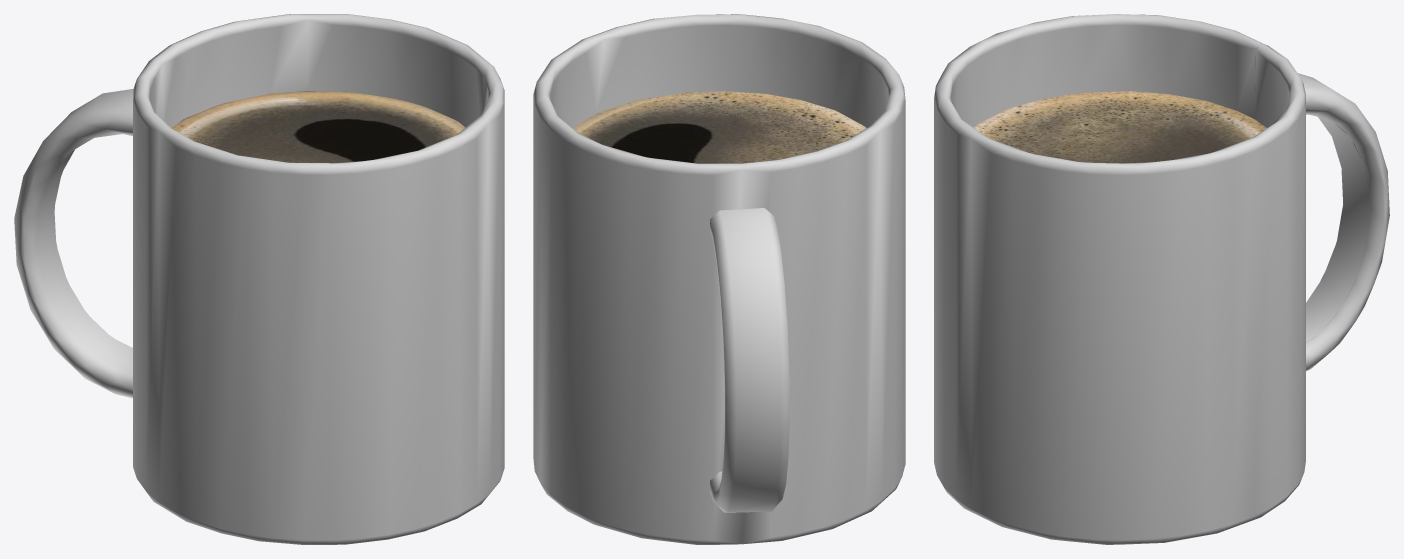
The model's file is coffee-mug.glb.
3 views of the same model, side by side, from view 1: azimuth 30°, elevation 25°; view 2: azimuth 150°, elevation 25°; view 3: azimuth 270°, elevation 25° (orthographic).
Parts seen in each view (by area): view 1: Mug1_Coffee_0; view 2: Mug1_Coffee_0; view 3: Mug1_Coffee_0.
Part boxes in pixels (x1=…): Mug1_Coffee_0: x1=14, y1=14, x2=504, y2=544; Mug1_Coffee_0: x1=533, y1=14, x2=905, y2=544; Mug1_Coffee_0: x1=934, y1=14, x2=1389, y2=544.
Bounding box in the file's own units: 2.78 × 2.93 × 3.17.
2 materials, 1 textured.
